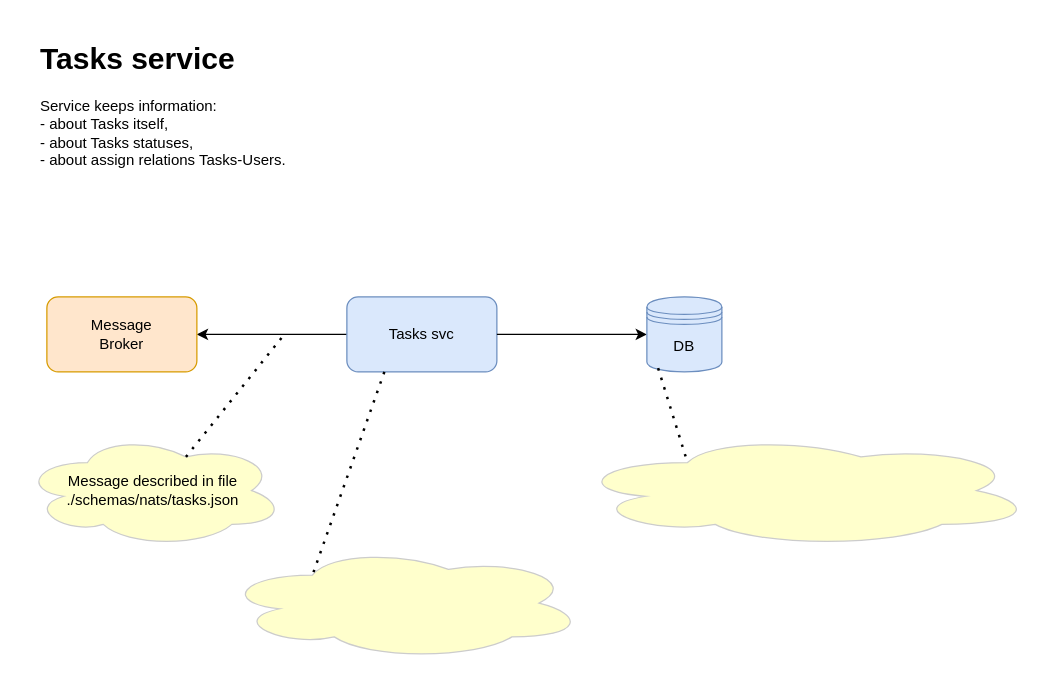
This 1056x681 diagram has some shape labels left out. Here are the shapes that lost their labels. From the top down, the centre of each, then its label:
At [802,490]: "Database schema described in file ./schemas/postgresql/tasks/202402181100.sql".
At [402,602]: "Service API described in file ./schemas/openapi/tasks.yml".
